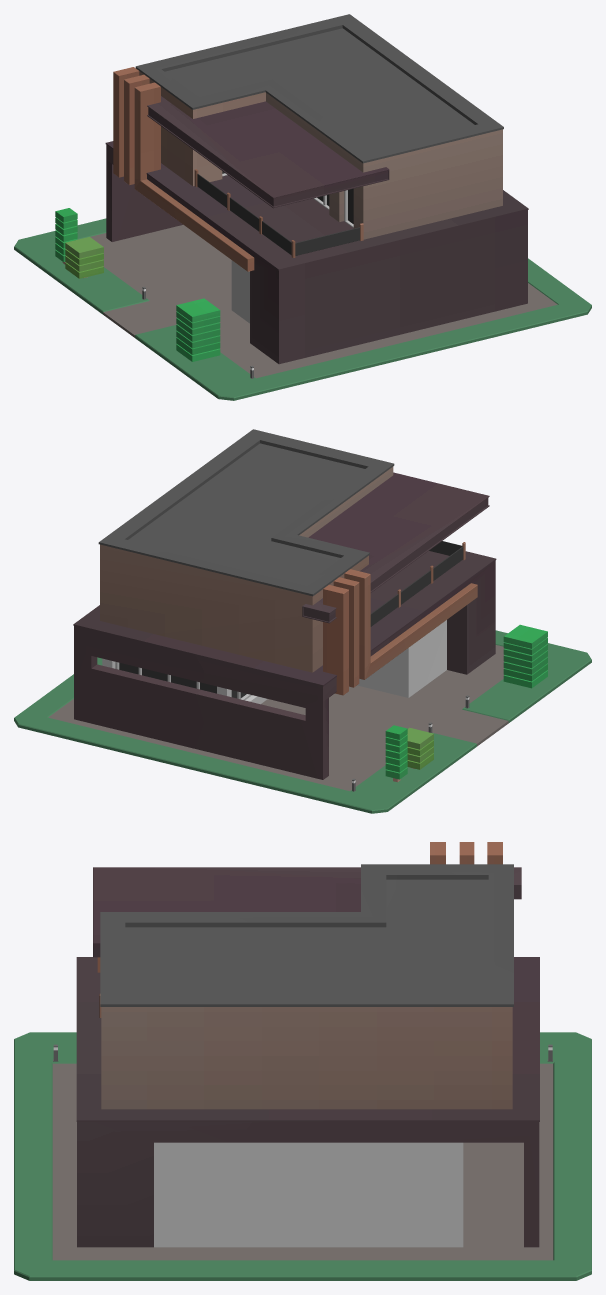
Rendered from bldg-house-b.glb.
The picture shows the model from 3 angles, top to bottom: view 1: azimuth 30°, elevation 25°; view 2: azimuth 150°, elevation 25°; view 3: azimuth 270°, elevation 25°; orthographic projection. The views are drawn at different scales.
Parts seen in each view (by area): view 1: house_02.001; view 2: house_02.001; view 3: house_02.001.
Part boxes in pixels (box(x1,y1,x2,y2)): house_02.001: box(14, 14, 591, 400); house_02.001: box(14, 429, 591, 813); house_02.001: box(14, 842, 591, 1280).
Size of the model in its own units: 15 by 6.92 by 15.
1 material, 1 textured.
